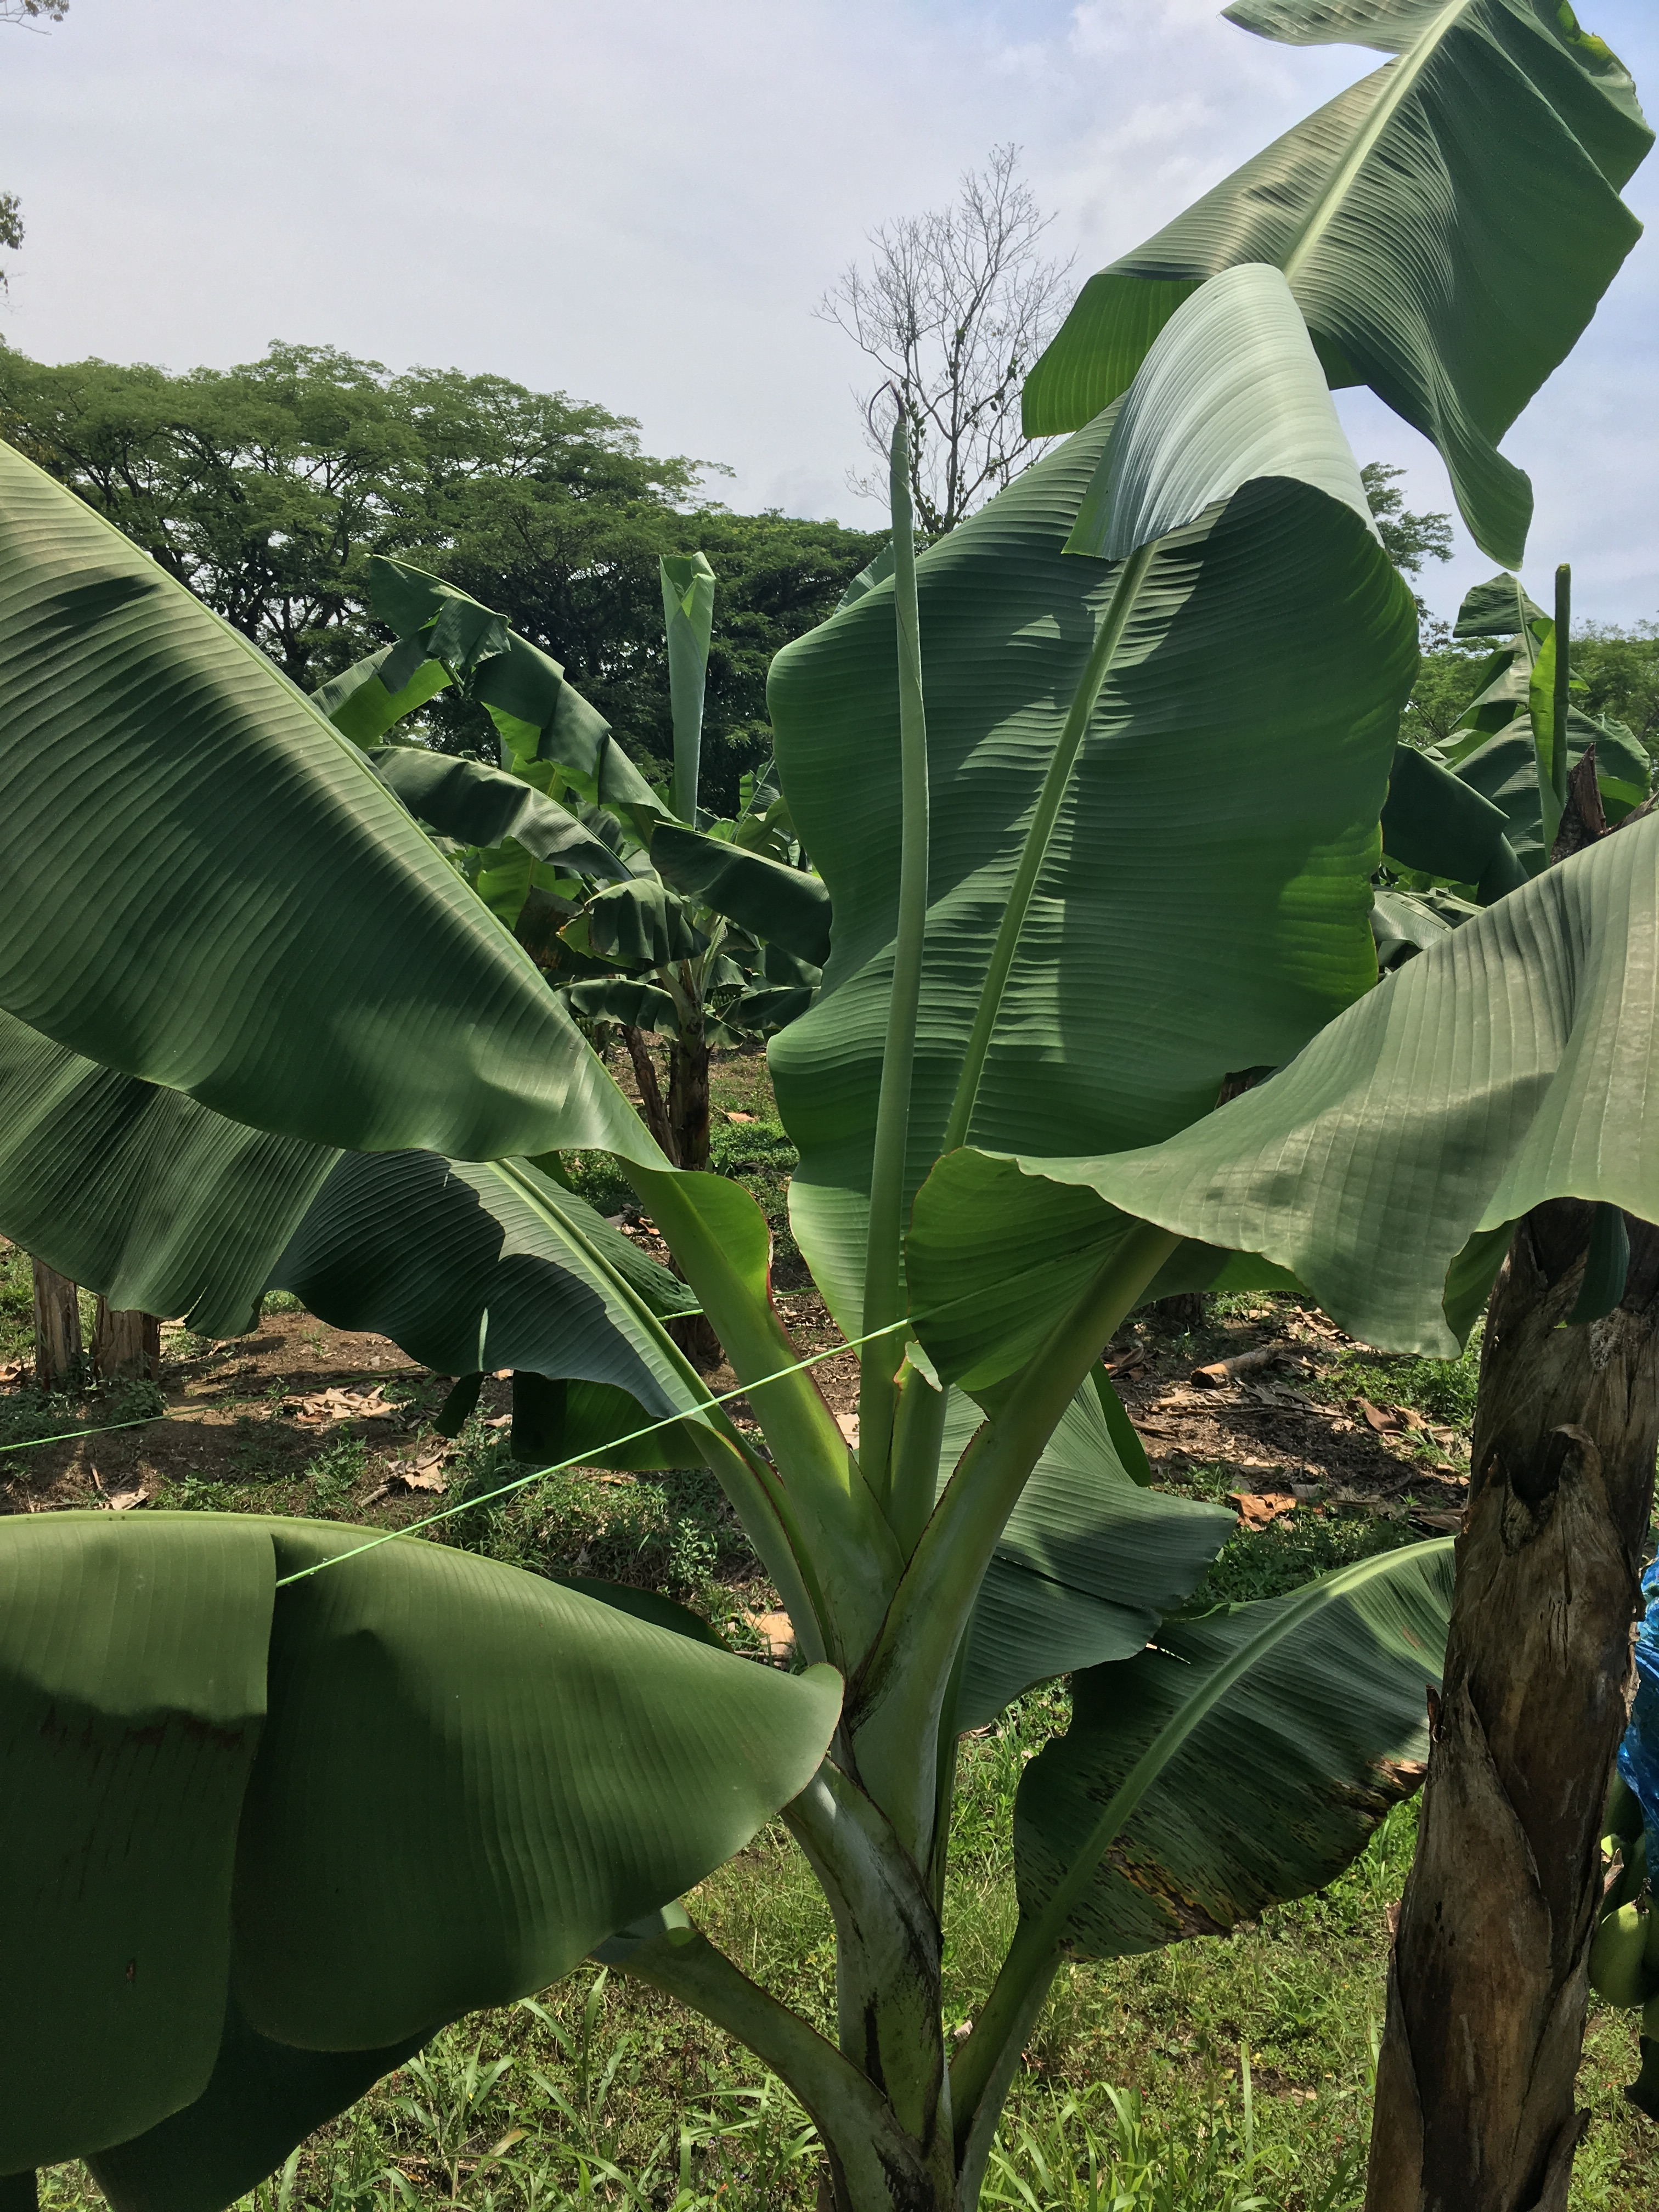candleleafs: (859, 383, 931, 1479), (657, 549, 716, 829), (1530, 563, 1572, 874)
